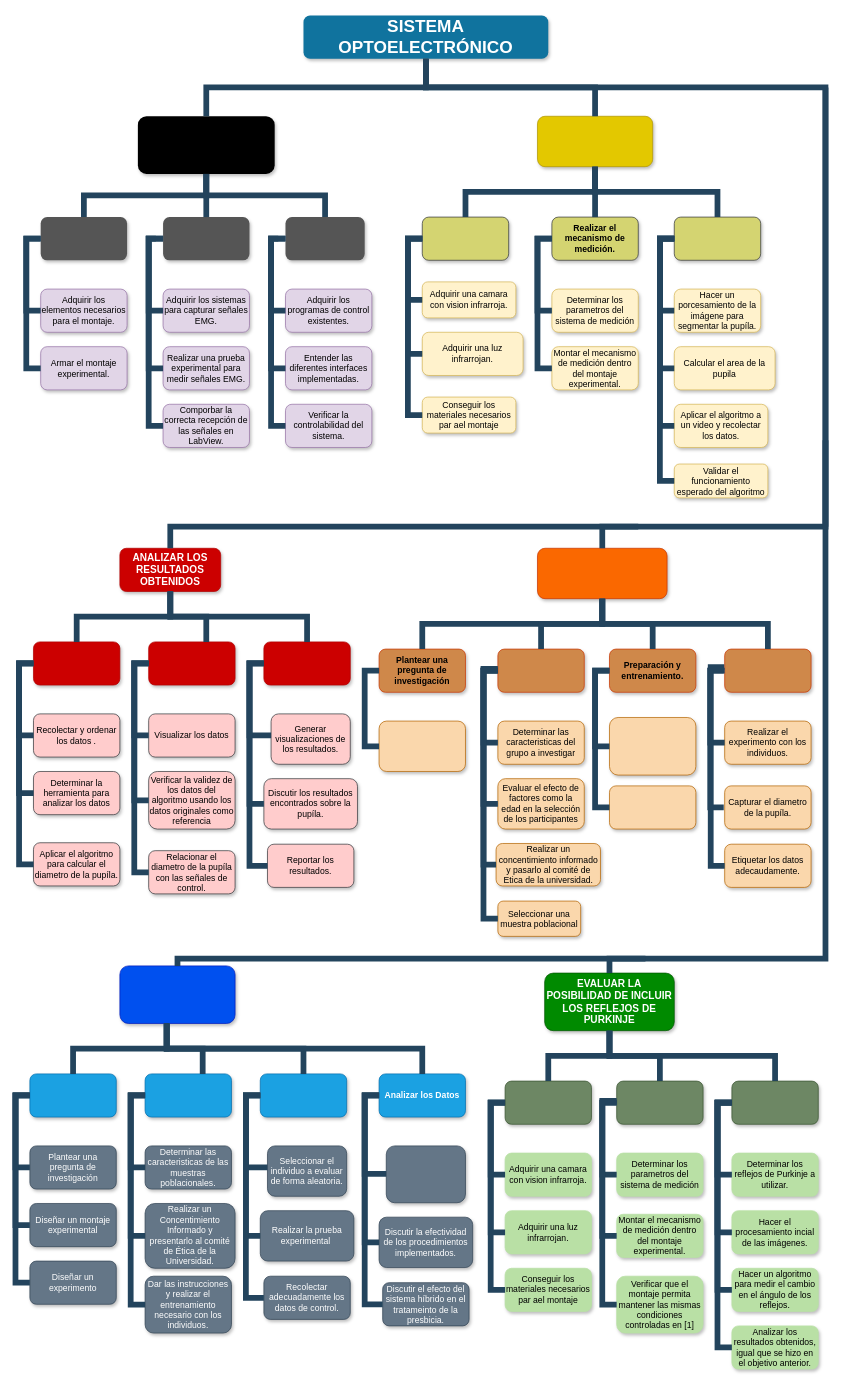
This 841x1387 diagram has some shape labels left out. The shapes that lost their labels are listed below. From the top down, each one's centre as x and y in pixels, then its label:
point 207,146: IMPLEMENTAR EL MONTAJE EXPERIMENTAL PROPUESTO EN [1]
point 595,142: DESARROLLAR UN MECANÍSMO PARA MEDIR LA PUPÍLA
point 84,239: Montaje Experimental
point 206,239: Medición señales EMG
point 325,239: Control con LabViEW
point 466,239: Conseguir los implementos
point 718,239: Realizar el algoritmo de interpretación.
point 602,574: REALIZAR EXPERIMENTO CON PERSONAS PARA EVALUAR LA PUPÍLA
point 77,664: Preparar los Datos
point 192,664: Analizar Datos
point 307,664: Concluir
point 541,671: Selección de la población
point 768,671: Obtención de los datos
point 422,747: Estudiar el comportameinto de la pupila en el montaje experimetnal.
point 653,747: Disminuir el sesgo de medición selecionando individuos aleatoriamente.
point 653,808: Instruir adecuadamente a los participantes del experimento.
point 177,995: REALIZAR UN ESTUDIO CON LOS LENTES Optotune EL-16-40-TC
point 73,1096: Plantear un Montaje Experimental
point 188,1096: Seleccionar la Población
point 304,1096: Realizar el procedimiento Experimental
point 548,1103: Conseguir los implenentos
point 660,1103: Realizar el mecanismo de medición
point 775,1103: Realizar un algoritmo de interpretación
point 426,1175: Generar Ilustraciones para visualizar los resultados obtenidos.
